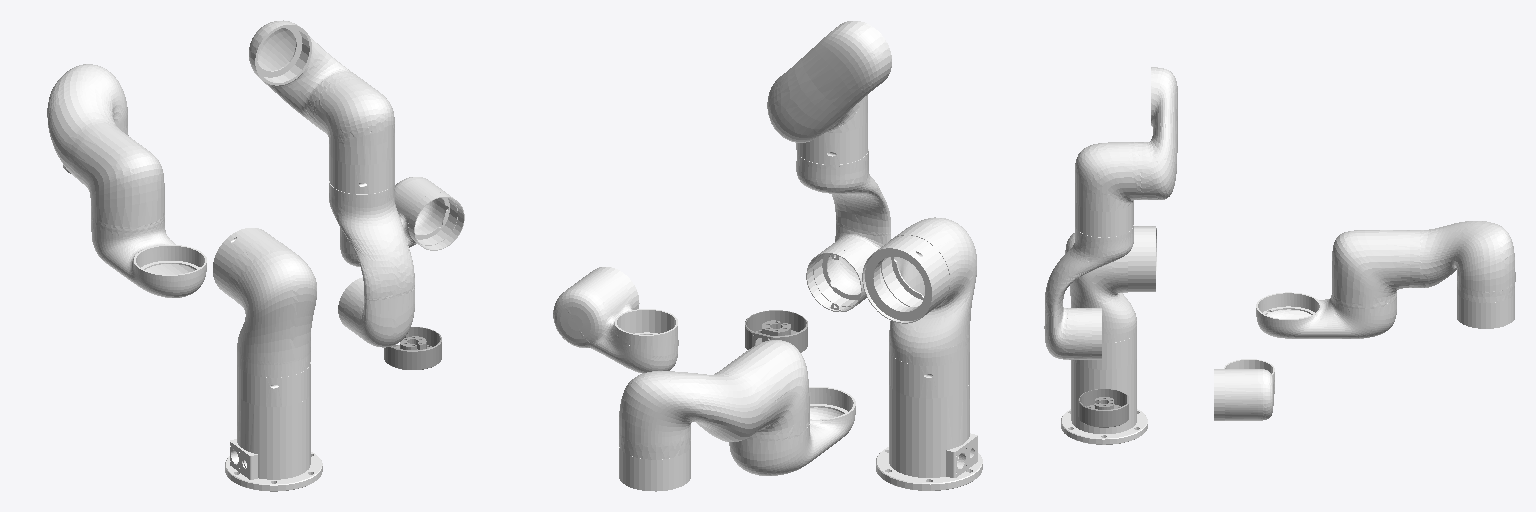
robot.urdf — xarm6_with_gripper:
<?xml version="1.0" encoding="utf-8"?>
<!-- =================================================================================== -->
<!-- |    This document was autogenerated by xacro from xarm6_with_robotiq_gripper.xacro | -->
<!-- |    EDITING THIS FILE BY HAND IS NOT RECOMMENDED                                 | -->
<!-- =================================================================================== -->
<robot name="xarm6_with_gripper">
  <joint name="robotiq_85_base_joint" type="fixed">
    <parent link="link6"/>
    <child link="robotiq_85_base_link"/>
    <origin rpy="0 -1.57079632679 3.14159265359" xyz="0 0 0"/>
  </joint>
  <link name="robotiq_85_base_link">
    <visual>
      <geometry>
        <mesh filename="package://robotiq_description/meshes/visual/robotiq_85_base_link.dae"/>
      </geometry>
    </visual>
    <collision>
      <geometry>
        <mesh filename="package://robotiq_description/meshes/collision/robotiq_85_base_link.stl"/>
      </geometry>
    </collision>
    <inertial>
      <mass value="0.636951"/>
      <origin xyz="0.0 0.0 0.0"/>
      <inertia ixx="0.000380" ixy="0.000000" ixz="0.000000" iyx="0.000000" iyy="0.001110" iyz="0.000000" izx="0.000000" izy="0.000000" izz="0.001171"/>
    </inertial>
  </link>
  <joint name="robotiq_85_left_knuckle_joint" type="revolute">
    <parent link="robotiq_85_base_link"/>
    <child link="robotiq_85_left_knuckle_link"/>
    <axis xyz="0 0 1"/>
    <origin rpy="3.14159265359 0.0 0.0" xyz="0.05490451627 0.03060114443 0.0"/>
    <limit effort="1000" lower="0.0" upper="0.80285" velocity="0.5"/>
  </joint>
  <joint name="robotiq_85_right_knuckle_joint" type="continuous">
    <parent link="robotiq_85_base_link"/>
    <child link="robotiq_85_right_knuckle_link"/>
    <axis xyz="0 0 1"/>
    <origin rpy="0.0 0.0 0.0" xyz="0.05490451627 -0.03060114443 0.0"/>
    <limit effort="1000" lower="-3.14" upper="3.14" velocity="100.0"/>
    <mimic joint="robotiq_85_left_knuckle_joint"/>
  </joint>
  <link name="robotiq_85_left_knuckle_link">
    <visual>
      <geometry>
        <mesh filename="package://robotiq_description/meshes/visual/robotiq_85_knuckle_link.dae"/>
      </geometry>
    </visual>
    <collision>
      <geometry>
        <mesh filename="package://robotiq_description/meshes/collision/robotiq_85_knuckle_link.stl"/>
      </geometry>
    </collision>
    <inertial>
      <mass value="0.018491"/>
      <origin xyz="0.0 0.0 0.0"/>
      <inertia ixx="0.000009" ixy="-0.000001" ixz="0.000000" iyx="-0.000001" iyy="0.000001" iyz="0.000000" izx="0.000000" izy="0.000000" izz="0.000010"/>
    </inertial>
  </link>
  <link name="robotiq_85_right_knuckle_link">
    <visual>
      <geometry>
        <mesh filename="package://robotiq_description/meshes/visual/robotiq_85_knuckle_link.dae"/>
      </geometry>
    </visual>
    <collision>
      <geometry>
        <mesh filename="package://robotiq_description/meshes/collision/robotiq_85_knuckle_link.stl"/>
      </geometry>
    </collision>
    <inertial>
      <mass value="0.018491"/>
      <origin xyz="0.0 0.0 0.0"/>
      <inertia ixx="0.000009" ixy="-0.000001" ixz="0.000000" iyx="-0.000001" iyy="0.000001" iyz="0.000000" izx="0.000000" izy="0.000000" izz="0.000010"/>
    </inertial>
  </link>
  <joint name="robotiq_85_left_finger_joint" type="fixed">
    <parent link="robotiq_85_left_knuckle_link"/>
    <child link="robotiq_85_left_finger_link"/>
    <origin rpy="0 0 0" xyz="-0.00408552455 -0.03148604435 0.0"/>
  </joint>
  <joint name="robotiq_85_right_finger_joint" type="fixed">
    <parent link="robotiq_85_right_knuckle_link"/>
    <child link="robotiq_85_right_finger_link"/>
    <origin rpy="0 0 0" xyz="-0.00408552455 -0.03148604435 0.0"/>
  </joint>
  <link name="robotiq_85_left_finger_link">
    <visual>
      <geometry>
        <mesh filename="package://robotiq_description/meshes/visual/robotiq_85_finger_link.dae"/>
      </geometry>
    </visual>
    <collision>
      <geometry>
        <mesh filename="package://robotiq_description/meshes/collision/robotiq_85_finger_link.stl"/>
      </geometry>
    </collision>
    <inertial>
      <mass value="0.027309"/>
      <origin xyz="0.0 0.0 0.0"/>
      <inertia ixx="0.000003" ixy="-0.000002" ixz="0.000000" iyx="-0.000002" iyy="0.000021" iyz="0.000000" izx="0.000000" izy="0.000000" izz="0.000020"/>
    </inertial>
  </link>
  <link name="robotiq_85_right_finger_link">
    <visual>
      <geometry>
        <mesh filename="package://robotiq_description/meshes/visual/robotiq_85_finger_link.dae"/>
      </geometry>
    </visual>
    <collision>
      <geometry>
        <mesh filename="package://robotiq_description/meshes/collision/robotiq_85_finger_link.stl"/>
      </geometry>
    </collision>
    <inertial>
      <mass value="0.027309"/>
      <origin xyz="0.0 0.0 0.0"/>
      <inertia ixx="0.000003" ixy="-0.000002" ixz="0.000000" iyx="-0.000002" iyy="0.000021" iyz="0.000000" izx="0.000000" izy="0.000000" izz="0.000020"/>
    </inertial>
  </link>
  <joint name="robotiq_85_left_inner_knuckle_joint" type="continuous">
    <parent link="robotiq_85_base_link"/>
    <child link="robotiq_85_left_inner_knuckle_link"/>
    <axis xyz="0 0 1"/>
    <origin rpy="3.14159265359 0.0 0.0" xyz="0.06142 0.0127 0"/>
    <limit effort="0.1" lower="-3.14" upper="3.14" velocity="100.0"/>
    <mimic joint="robotiq_85_left_knuckle_joint" offset="0"/>
  </joint>
  <joint name="robotiq_85_right_inner_knuckle_joint" type="continuous">
    <parent link="robotiq_85_base_link"/>
    <child link="robotiq_85_right_inner_knuckle_link"/>
    <axis xyz="0 0 1"/>
    <origin rpy="0 0 0" xyz="0.06142 -0.0127 0"/>
    <limit effort="0.1" lower="-3.14" upper="3.14" velocity="100.0"/>
    <mimic joint="robotiq_85_left_knuckle_joint" offset="0"/>
  </joint>
  <link name="robotiq_85_left_inner_knuckle_link">
    <visual>
      <geometry>
        <mesh filename="package://robotiq_description/meshes/visual/robotiq_85_inner_knuckle_link.dae"/>
      </geometry>
    </visual>
    <collision>
      <geometry>
        <mesh filename="package://robotiq_description/meshes/collision/robotiq_85_inner_knuckle_link.stl"/>
      </geometry>
    </collision>
    <inertial>
      <mass value="0.029951"/>
      <origin xyz="0.0 0.0 0.0"/>
      <inertia ixx="0.000039" ixy="0.000000" ixz="0.000000" iyx="0.000000" iyy="0.000005" iyz="0.000000" izx="0.000000" izy="0.000000" izz="0.000035"/>
    </inertial>
  </link>
  <link name="robotiq_85_right_inner_knuckle_link">
    <visual>
      <geometry>
        <mesh filename="package://robotiq_description/meshes/visual/robotiq_85_inner_knuckle_link.dae"/>
      </geometry>
    </visual>
    <collision>
      <geometry>
        <mesh filename="package://robotiq_description/meshes/collision/robotiq_85_inner_knuckle_link.stl"/>
      </geometry>
    </collision>
    <inertial>
      <mass value="0.029951"/>
      <origin xyz="0.0 0.0 0.0"/>
      <inertia ixx="0.000039" ixy="0.000000" ixz="0.000000" iyx="0.000000" iyy="0.000005" iyz="0.000000" izx="0.000000" izy="0.000000" izz="0.000035"/>
    </inertial>
  </link>
  <joint name="robotiq_85_left_finger_tip_joint" type="continuous">
    <parent link="robotiq_85_left_inner_knuckle_link"/>
    <child link="robotiq_85_left_finger_tip_link"/>
    <axis xyz="0 0 1"/>
    <origin rpy="0.0 0.0 0.0" xyz="0.04303959807 -0.03759940821 0.0"/>
    <limit effort="0.1" lower="-3.14" upper="3.14" velocity="100.0"/>
    <mimic joint="robotiq_85_left_knuckle_joint" multiplier="-1"/>
  </joint>
  <joint name="robotiq_85_right_finger_tip_joint" type="continuous">
    <parent link="robotiq_85_right_inner_knuckle_link"/>
    <child link="robotiq_85_right_finger_tip_link"/>
    <axis xyz="0 0 1"/>
    <origin rpy="0.0 0.0 0.0" xyz="0.04303959807 -0.03759940821  0.0"/>
    <limit effort="0.1" lower="-3.14" upper="3.14" velocity="100.0"/>
    <mimic joint="robotiq_85_left_knuckle_joint" multiplier="-1"/>
  </joint>
  <link name="robotiq_85_left_finger_tip_link">
    <visual>
      <geometry>
        <mesh filename="package://robotiq_description/meshes/visual/robotiq_85_finger_tip_link.dae"/>
      </geometry>
    </visual>
    <collision>
      <geometry>
        <mesh filename="package://robotiq_description/meshes/collision/robotiq_85_finger_tip_link.stl"/>
      </geometry>
    </collision>
    <inertial>
      <mass value="0.019555"/>
      <origin xyz="0.0 0.0 0.0"/>
      <inertia ixx="0.000002" ixy="0.000000" ixz="0.000000" iyx="0.000000" iyy="0.000005" iyz="0.000000" izx="0.000000" izy="0.000000" izz="0.000006"/>
    </inertial>
  </link>
  <link name="robotiq_85_right_finger_tip_link">
    <visual>
      <geometry>
        <mesh filename="package://robotiq_description/meshes/visual/robotiq_85_finger_tip_link.dae"/>
      </geometry>
    </visual>
    <collision>
      <geometry>
        <mesh filename="package://robotiq_description/meshes/collision/robotiq_85_finger_tip_link.stl"/>
      </geometry>
    </collision>
    <inertial>
      <mass value="0.019555"/>
      <origin xyz="0.0 0.0 0.0"/>
      <inertia ixx="0.000002" ixy="0.000000" ixz="0.000000" iyx="0.000000" iyy="0.000005" iyz="0.000000" izx="0.000000" izy="0.000000" izz="0.000006"/>
    </inertial>
  </link>
  <!-- Improve grasping physics -->
  <gazebo reference="robotiq_85_left_finger_tip_link">
    <kp>1000000.0</kp>
    <kd>1.0</kd>
    <mu1>1.0</mu1>
    <mu2>1.0</mu2>
    <minDepth>0.001</minDepth>
  </gazebo>
  <gazebo reference="robotiq_85_right_finger_tip_link">
    <kp>1000000.0</kp>
    <kd>1.0</kd>
    <mu1>1.0</mu1>
    <mu2>1.0</mu2>
    <minDepth>0.001</minDepth>
  </gazebo>
  <transmission name="robotiq_85_left_knuckle_trans">
    <type>transmission_interface/SimpleTransmission</type>
    <joint name="robotiq_85_left_knuckle_joint">
      <hardwareInterface>hardware_interface/PositionJointInterface</hardwareInterface>
      <!-- <hardwareInterface>EffortJointInterface</hardwareInterface> -->
    </joint>
    <actuator name="robotiq_85_left_knuckle_motor">
      <mechanicalReduction>1</mechanicalReduction>
      <hardwareInterface>PositionJointInterface</hardwareInterface>
      <!-- <hardwareInterface>EfforJointInterface</hardwareInterface> -->
    </actuator>
  </transmission>
  <!-- Mimic joints -->
  <gazebo>
    <plugin filename="libgazebo_mimic_joint_plugin.so" name="mimic_robotiq_85_1">
      <joint>robotiq_85_left_knuckle_joint</joint>
      <mimicJoint>robotiq_85_right_knuckle_joint</mimicJoint>
    </plugin>
    <plugin filename="libgazebo_mimic_joint_plugin.so" name="mimic_robotiq_85_2">
      <joint>robotiq_85_left_knuckle_joint</joint>
      <mimicJoint>robotiq_85_left_inner_knuckle_joint</mimicJoint>
    </plugin>
    <plugin filename="libgazebo_mimic_joint_plugin.so" name="mimic_robotiq_85_3">
      <joint>robotiq_85_left_knuckle_joint</joint>
      <mimicJoint>robotiq_85_right_inner_knuckle_joint</mimicJoint>
    </plugin>
    <plugin filename="libgazebo_mimic_joint_plugin.so" name="mimic_robotiq_85_4">
      <joint>robotiq_85_left_knuckle_joint</joint>
      <mimicJoint>robotiq_85_left_finger_tip_joint</mimicJoint>
      <multiplier>-1.0</multiplier>
      <offset>0.0</offset>
    </plugin>
    <plugin filename="libgazebo_mimic_joint_plugin.so" name="mimic_robotiq_85_5">
      <joint>robotiq_85_left_knuckle_joint</joint>
      <mimicJoint>robotiq_85_right_finger_tip_joint</mimicJoint>
      <multiplier>-1.0</multiplier>
      <offset>0.0</offset>
    </plugin>
  </gazebo>
  <!-- Gazebo FT sensor plugin -->
  <gazebo reference="joint6">
    <provideFeedback>true</provideFeedback>
  </gazebo>
  <gazebo>
    <plugin filename="libgazebo_ros_ft_sensor.so" name="ft_sensor_plugin">
      <updateRate>250.0</updateRate>
      <topicName>ft_sensor/raw</topicName>
      <gaussianNoise>0.0</gaussianNoise>
      <jointName>joint6</jointName>
    </plugin>
  </gazebo>
  <!-- Gazebo grasping plugin -->
  <gazebo>
    <gripper name="gazebo_gripper">
      <grasp_check>
        <attach_steps>2</attach_steps>
        <!-- default: 20 -->
        <detach_steps>2</detach_steps>
        <!-- default: 40 -->
        <min_contact_count>3</min_contact_count>
      </grasp_check>
      <gripper_link>robotiq_85_left_finger_tip_link</gripper_link>
      <gripper_link>robotiq_85_right_finger_tip_link</gripper_link>
      <palm_link>robotiq_85_base_link</palm_link>
    </gripper>
  </gazebo>
  <!--
  Author: [author] <[email redacted]>
  Contributers:
-->
  <gazebo>
    <plugin filename="libgazebo_ros_control.so" name="gazebo_ros_control">
      <robotNamespace>/xarm</robotNamespace>
      <!-- <controlPeriod>0.0001</controlPeriod> -->
      <robotSimType>gazebo_ros_control/DefaultRobotHWSim</robotSimType>
      <legacyModeNS>true</legacyModeNS>
      <!-- <preserveWorldVelocity>true</preserveWorldVelocity> -->
    </plugin>
  </gazebo>
  <link name="world"/>
  <joint name="world_joint" type="fixed">
    <parent link="world"/>
    <child link="link_base"/>
    <origin rpy="0 0 0" xyz="0 0 1.021"/>
  </joint>
  <material name="Black">
    <color rgba="0.0 0.0 0.0 1.0"/>
  </material>
  <material name="Red">
    <color rgba="0.8 0.0 0.0 1.0"/>
  </material>
  <material name="White">
    <color rgba="1.0 1.0 1.0 1.0"/>
  </material>
  <material name="Silver">
    <color rgba="0.753 0.753 0.753 1.0"/>
  </material>
  <link name="link_base">
    <visual>
      <geometry>
        <mesh filename="package://xarm_description/meshes/xarm6/visual/base.stl"/>
      </geometry>
      <origin rpy="0 0 0" xyz="0 0 0"/>
      <material name="White"/>
    </visual>
    <collision>
      <geometry>
        <mesh filename="package://xarm_description/meshes/xarm6/visual/base.stl"/>
      </geometry>
      <origin rpy="0 0 0" xyz="0 0 0"/>
    </collision>
    <inertial>
      <origin rpy="0 0 0" xyz="0.0 0.0 0.09103"/>
      <mass value="2.7"/>
      <inertia ixx="0.00494875" ixy="-3.5E-06" ixz="1.25E-05" iyy="0.00494174" iyz="1.67E-06" izz="0.002219"/>
    </inertial>
  </link>
  <link name="link1">
    <visual>
      <geometry>
        <mesh filename="package://xarm_description/meshes/xarm6/visual/link1.stl"/>
      </geometry>
      <origin rpy="0 0 0" xyz="0 0 0"/>
      <material name="White"/>
    </visual>
    <collision>
      <geometry>
        <mesh filename="package://xarm_description/meshes/xarm6/visual/link1.stl"/>
      </geometry>
      <origin rpy="0 0 0" xyz="0 0 0"/>
    </collision>
    <inertial>
      <origin rpy="0 0 0" xyz="-0.002 0.02692 -0.01332"/>
      <mass value="2.16"/>
      <inertia ixx="0.00539427" ixy="1.095E-05" ixz="1.635E-06" iyy="0.0048979" iyz="0.000793" izz="0.00311573"/>
    </inertial>
  </link>
  <joint name="joint1" type="revolute">
    <parent link="link_base"/>
    <child link="link1"/>
    <origin rpy="0 0 0" xyz="0 0 0.267"/>
    <axis xyz="0 0 1"/>
    <limit effort="50.0" lower="-6.28318530718" upper="6.28318530718" velocity="3.14"/>
    <dynamics damping="1.0" friction="1.0"/>
  </joint>
  <link name="link2">
    <visual>
      <geometry>
        <mesh filename="package://xarm_description/meshes/xarm6/visual/link2.stl"/>
      </geometry>
      <origin rpy="0 0 0" xyz="0 0 0"/>
      <material name="White"/>
    </visual>
    <collision>
      <geometry>
        <mesh filename="package://xarm_description/meshes/xarm6/visual/link2.stl"/>
      </geometry>
      <origin rpy="0 0 0" xyz="0 0 0"/>
    </collision>
    <inertial>
      <origin rpy="0 0 0" xyz="0.03531 -0.21398 0.03386"/>
      <mass value="1.71"/>
      <inertia ixx="0.0248674" ixy="-0.00430651" ixz="-0.00067797" iyy="0.00485548" iyz="0.00457245" izz="0.02387827"/>
    </inertial>
  </link>
  <joint name="joint2" type="revolute">
    <parent link="link1"/>
    <child link="link2"/>
    <origin rpy="-1.5708 0 0" xyz="0 0 0"/>
    <axis xyz="0 0 1"/>
    <limit effort="50.0" lower="-2.059" upper="2.0944" velocity="3.14"/>
    <dynamics damping="1.0" friction="1.0"/>
  </joint>
  <link name="link3">
    <visual>
      <geometry>
        <mesh filename="package://xarm_description/meshes/xarm6/visual/link3.stl"/>
      </geometry>
      <origin rpy="0 0 0" xyz="0 0 0"/>
      <material name="White"/>
    </visual>
    <collision>
      <geometry>
        <mesh filename="package://xarm_description/meshes/xarm6/visual/link3.stl"/>
      </geometry>
      <origin rpy="0 0 0" xyz="0 0 0"/>
    </collision>
    <inertial>
      <origin rpy="0 0 0" xyz="0.06781 0.10749 0.01457"/>
      <mass value="1.384"/>
      <inertia ixx="0.0053694" ixy="0.0014185" ixz="-0.00092094" iyy="0.0032423" iyz="-0.00169178" izz="0.00501731"/>
    </inertial>
  </link>
  <joint name="joint3" type="revolute">
    <parent link="link2"/>
    <child link="link3"/>
    <origin rpy="0 0 0" xyz="0.0535 -0.2845 0"/>
    <axis xyz="0 0 1"/>
    <limit effort="32.0" lower="-3.927" upper="0.19198" velocity="3.14"/>
    <dynamics damping="1.0" friction="1.0"/>
  </joint>
  <link name="link4">
    <visual>
      <geometry>
        <mesh filename="package://xarm_description/meshes/xarm6/visual/link4.stl"/>
      </geometry>
      <origin rpy="0 0 0" xyz="0 0 0"/>
      <material name="White"/>
    </visual>
    <collision>
      <geometry>
        <mesh filename="package://xarm_description/meshes/xarm6/visual/link4.stl"/>
      </geometry>
      <origin rpy="0 0 0" xyz="0 0 0"/>
    </collision>
    <inertial>
      <origin rpy="0 0 0" xyz="-0.00021 0.02578 -0.02538"/>
      <mass value="1.115"/>
      <inertia ixx="0.00439263" ixy="5.028E-05" ixz="1.374E-05" iyy="0.0040077" iyz="0.00045338" izz="0.00110321"/>
    </inertial>
  </link>
  <joint name="joint4" type="revolute">
    <parent link="link3"/>
    <child link="link4"/>
    <origin rpy="-1.5708 0 0" xyz="0.0775 0.3425 0"/>
    <axis xyz="0 0 1"/>
    <limit effort="32.0" lower="-6.28318530718" upper="6.28318530718" velocity="3.14"/>
    <dynamics damping="1.0" friction="1.0"/>
  </joint>
  <link name="link5">
    <visual>
      <geometry>
        <mesh filename="package://xarm_description/meshes/xarm6/visual/link5.stl"/>
      </geometry>
      <origin rpy="0 0 0" xyz="0 0 0"/>
      <material name="White"/>
    </visual>
    <collision>
      <geometry>
        <mesh filename="package://xarm_description/meshes/xarm6/visual/link5.stl"/>
      </geometry>
      <origin rpy="0 0 0" xyz="0 0 0"/>
    </collision>
    <inertial>
      <origin rpy="0 0 0" xyz="0.05428 0.01781 0.00543"/>
      <mass value="1.275"/>
      <inertia ixx="0.001202758" ixy="0.000492428" ixz="-0.00039147" iyy="0.0022876" iyz="-1.235E-04" izz="0.0026866"/>
    </inertial>
  </link>
  <joint name="joint5" type="revolute">
    <parent link="link4"/>
    <child link="link5"/>
    <origin rpy="1.5708 0 0" xyz="0 0 0"/>
    <axis xyz="0 0 1"/>
    <limit effort="32.0" lower="-1.69297" upper="3.14159265359" velocity="3.14"/>
    <dynamics damping="1.0" friction="1.0"/>
  </joint>
  <link name="link6">
    <visual>
      <geometry>
        <mesh filename="package://xarm_description/meshes/xarm6/visual/link6.stl"/>
      </geometry>
      <origin rpy="0 0 0" xyz="0 0 0"/>
      <material name="Silver"/>
    </visual>
    <collision>
      <geometry>
        <mesh filename="package://xarm_description/meshes/xarm6/visual/link6.stl"/>
      </geometry>
      <origin rpy="0 0 0" xyz="0 0 0"/>
    </collision>
    <inertial>
      <origin rpy="0 0 0" xyz="0 0.00064 -0.00952"/>
      <mass value="0.1096"/>
      <inertia ixx="4.5293E-05" ixy="0" ixz="0" iyy="4.8111E-05" iyz="0" izz="7.9715E-05"/>
    </inertial>
  </link>
  <joint name="joint6" type="revolute">
    <parent link="link5"/>
    <child link="link6"/>
    <origin rpy="-1.5708 0 0" xyz="0.076 0.097 0"/>
    <axis xyz="0 0 1"/>
    <limit effort="20.0" lower="-6.28318530718" upper="6.28318530718" velocity="3.14"/>
    <dynamics damping="1.0" friction="1.0"/>
  </joint>
  <link name="link_eef"/>
  <joint name="joint_eef" type="fixed">
    <origin rpy="0 0 0" xyz="0 0 0"/>
    <parent link="link6"/>
    <child link="link_eef"/>
  </joint>
  <transmission name="tran1">
    <type>transmission_interface/SimpleTransmission</type>
    <joint name="joint1">
      <hardwareInterface>hardware_interface/PositionJointInterface</hardwareInterface>
    </joint>
    <actuator name="motor1">
      <hardwareInterface>hardware_interface/PositionJointInterface</hardwareInterface>
      <mechanicalReduction>100</mechanicalReduction>
    </actuator>
  </transmission>
  <transmission name="tran2">
    <type>transmission_interface/SimpleTransmission</type>
    <joint name="joint2">
      <hardwareInterface>hardware_interface/PositionJointInterface</hardwareInterface>
    </joint>
    <actuator name="motor2">
      <hardwareInterface>hardware_interface/PositionJointInterface</hardwareInterface>
      <mechanicalReduction>100</mechanicalReduction>
    </actuator>
  </transmission>
  <transmission name="tran3">
    <type>transmission_interface/SimpleTransmission</type>
    <joint name="joint3">
      <hardwareInterface>hardware_interface/PositionJointInterface</hardwareInterface>
    </joint>
    <actuator name="motor3">
      <hardwareInterface>hardware_interface/PositionJointInterface</hardwareInterface>
      <mechanicalReduction>100</mechanicalReduction>
    </actuator>
  </transmission>
  <transmission name="tran4">
    <type>transmission_interface/SimpleTransmission</type>
    <joint name="joint4">
      <hardwareInterface>hardware_interface/PositionJointInterface</hardwareInterface>
    </joint>
    <actuator name="motor3">
      <hardwareInterface>hardware_interface/PositionJointInterface</hardwareInterface>
      <mechanicalReduction>100</mechanicalReduction>
    </actuator>
  </transmission>
  <transmission name="tran5">
    <type>transmission_interface/SimpleTransmission</type>
    <joint name="joint5">
      <hardwareInterface>hardware_interface/PositionJointInterface</hardwareInterface>
    </joint>
    <actuator name="motor5">
      <hardwareInterface>hardware_interface/PositionJointInterface</hardwareInterface>
      <mechanicalReduction>100</mechanicalReduction>
    </actuator>
  </transmission>
  <transmission name="tran6">
    <type>transmission_interface/SimpleTransmission</type>
    <joint name="joint6">
      <hardwareInterface>hardware_interface/PositionJointInterface</hardwareInterface>
    </joint>
    <actuator name="motor6">
      <hardwareInterface>hardware_interface/PositionJointInterface</hardwareInterface>
      <mechanicalReduction>100</mechanicalReduction>
    </actuator>
  </transmission>
  <gazebo reference="link_base">
    <selfCollide>true</selfCollide>
  </gazebo>
  <gazebo reference="link1">
    <selfCollide>true</selfCollide>
  </gazebo>
  <gazebo reference="link2">
    <selfCollide>true</selfCollide>
  </gazebo>
  <gazebo reference="link3">
    <selfCollide>true</selfCollide>
  </gazebo>
  <gazebo reference="link4">
    <selfCollide>true</selfCollide>
  </gazebo>
  <gazebo reference="link5">
    <selfCollide>true</selfCollide>
  </gazebo>
  <gazebo reference="link6">
    <selfCollide>true</selfCollide>
  </gazebo>
  <!-- <xacro:load_gripper attach_to="$(arg prefix)link_eef" effort_control="$(arg effort_control)" velocity_control="$(arg velocity_control)" /> -->
</robot>

--- Facts derived from the render (not from the file) ---
3 views of the same robot in one strip: view 1: azimuth 30°, elevation 25°; view 2: azimuth 150°, elevation 25°; view 3: azimuth 270°, elevation 25° (orthographic).
Model xarm6_with_gripper with 18 links and 17 joints (7 revolute, 5 continuous, 5 fixed), rooted at world, posed all joints at 0.
Links seen in each view (by area): view 1: link2, link3, link1, link4, link_base, link5, link6; view 2: link2, link1, link3, link_base, link5, link4, link6; view 3: link2, link3, link4, link1, link_base, link5, link6.
Link boxes in pixels (box(x1,y1,x2,y2)): link2: box(47, 64, 206, 297); link3: box(249, 20, 394, 193); link1: box(213, 228, 316, 377); link4: box(329, 181, 414, 347); link_base: box(225, 362, 322, 491); link5: box(340, 177, 464, 266); link6: box(384, 327, 441, 369); link2: box(619, 340, 855, 491); link1: box(862, 217, 976, 365); link3: box(767, 21, 891, 164); link_base: box(876, 352, 982, 490); link5: box(553, 267, 678, 373); link4: box(796, 149, 890, 311); link6: box(745, 310, 807, 352); link2: box(1256, 221, 1515, 338); link3: box(1075, 67, 1177, 237); link4: box(1044, 225, 1133, 359); link1: box(1065, 226, 1156, 342); link_base: box(1061, 332, 1147, 444); link5: box(1214, 359, 1274, 420); link6: box(1078, 389, 1128, 427).
Size in the robot's own frame: 0.4385 by 0.6804 by 0.5938 metres.
7 mesh visuals loaded from 12 distinct referenced files (7 binary STL); not drawn: 9 (reference not matched to a file when rendering).